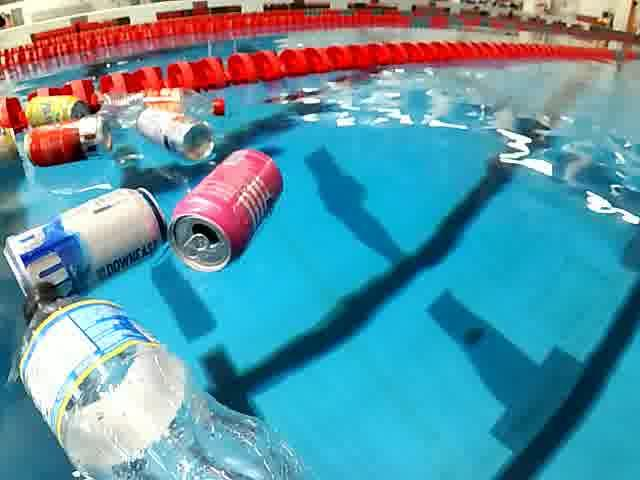Bottle: (10, 279, 310, 480), (95, 86, 233, 130)
Can: (1, 185, 173, 313), (167, 147, 290, 276), (16, 110, 118, 172), (136, 106, 218, 162), (22, 95, 94, 128)
